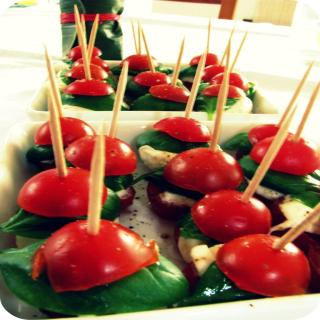tomato: (30, 218, 160, 293), (212, 233, 313, 297), (20, 164, 110, 216), (166, 145, 244, 199), (190, 188, 269, 238), (65, 134, 136, 176), (246, 136, 320, 176), (152, 116, 214, 146), (33, 115, 96, 144), (249, 123, 302, 145), (62, 77, 114, 96), (145, 85, 190, 105), (209, 70, 251, 88), (65, 63, 109, 79), (201, 84, 250, 98), (136, 70, 174, 88), (67, 42, 103, 60), (124, 54, 164, 70), (72, 56, 111, 71), (200, 63, 232, 79), (188, 52, 224, 64)
